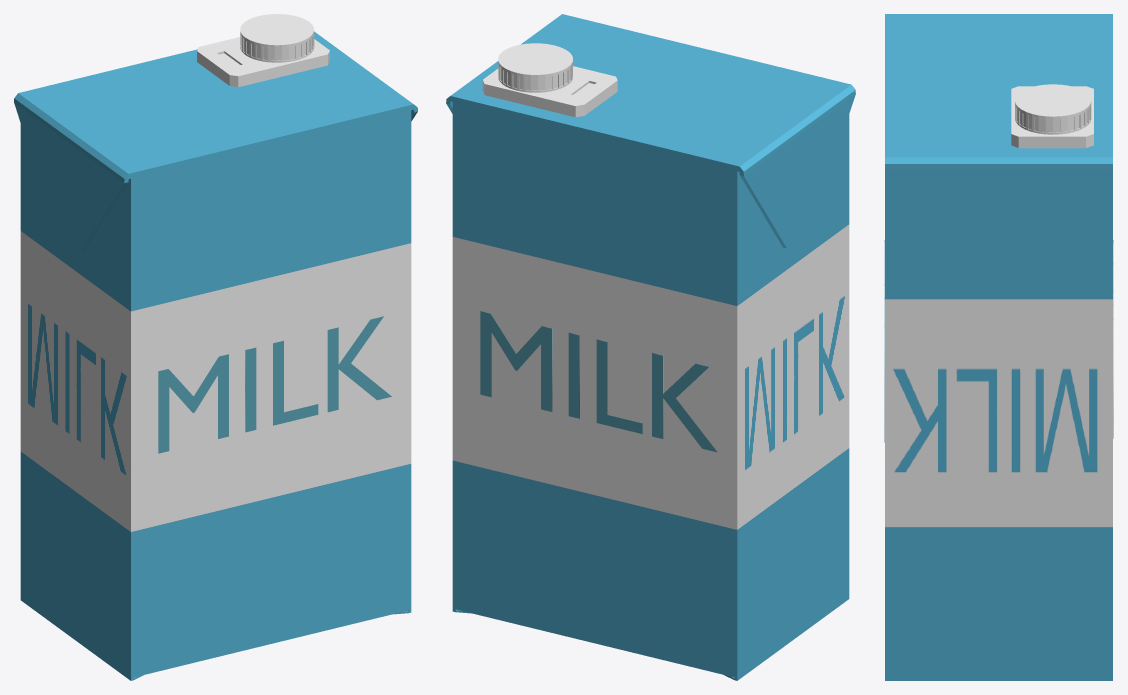
File: susu.fbx
The picture shows the model from 3 angles, left to right: view 1: azimuth 30°, elevation 25°; view 2: azimuth 150°, elevation 25°; view 3: azimuth 270°, elevation 25°; orthographic projection. The views are drawn at different scales.
Parts seen in each view (by area): view 1: Cube, Text, Cube.001, Cylinder; view 2: Cube, Text.001, Cube.001, Cylinder; view 3: Cube, Cylinder, Cube.001.
Part boxes in pixels (x1=…): Cube: x1=14, y1=32, x2=417, y2=680; Text: x1=158, y1=316, x2=391, y2=453; Cube.001: x1=197, y1=37, x2=329, y2=87; Cylinder: x1=240, y1=14, x2=314, y2=62; Cube: x1=446, y1=14, x2=855, y2=680; Text.001: x1=480, y1=311, x2=717, y2=452; Cube.001: x1=482, y1=66, x2=617, y2=117; Cylinder: x1=498, y1=43, x2=572, y2=92; Cube: x1=885, y1=14, x2=1112, y2=680; Cylinder: x1=1015, y1=84, x2=1091, y2=134; Cube.001: x1=1011, y1=86, x2=1093, y2=148.
Size of the model in its own units: 218 by 381 by 143.
